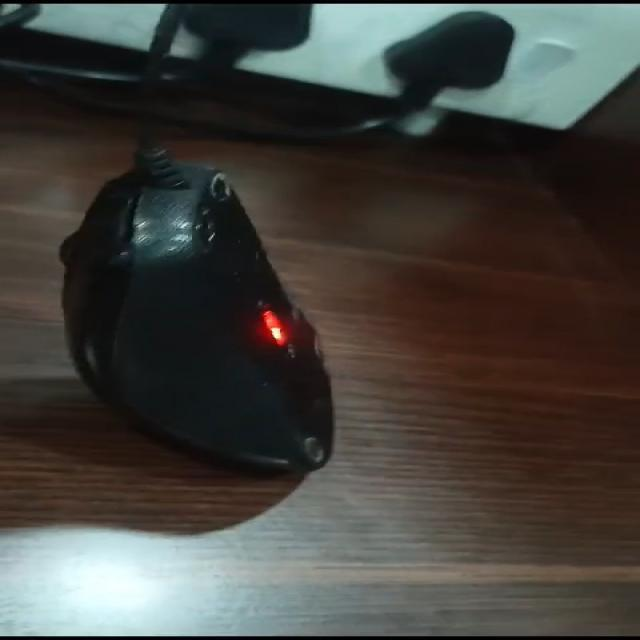mouse: (32, 119, 478, 556)
